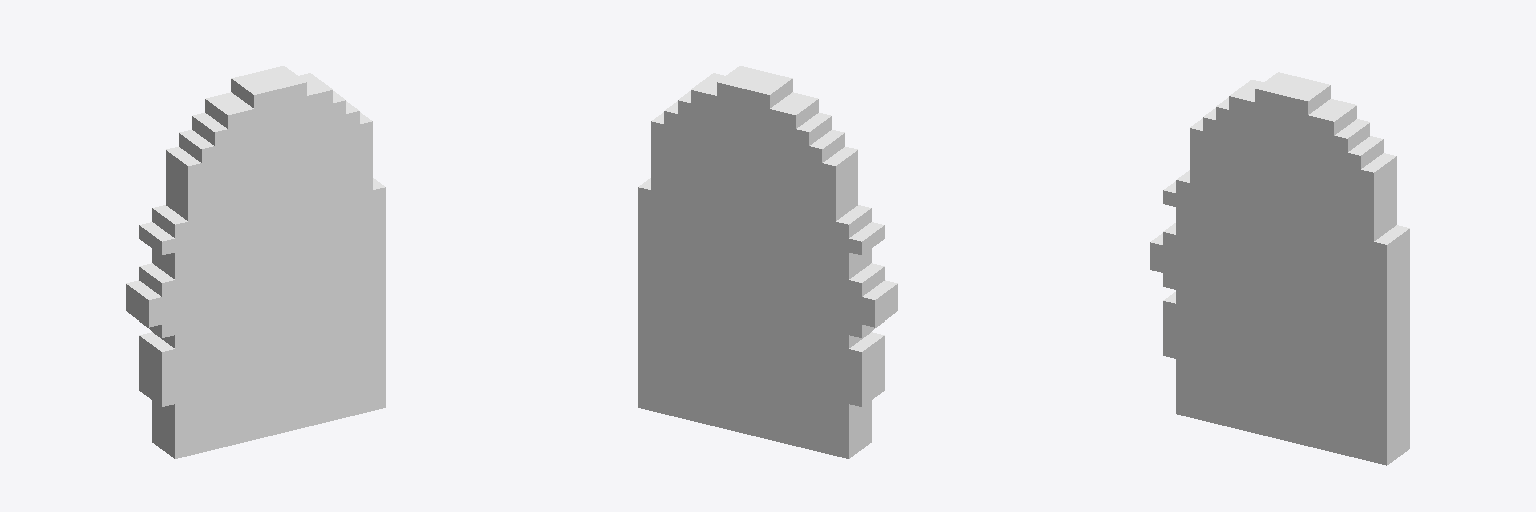
Rendered from door_dungeon_1.obj.
3 views of the same model, side by side, from view 1: azimuth 30°, elevation 25°; view 2: azimuth 150°, elevation 25°; view 3: azimuth 330°, elevation 25° (orthographic).
Visible parts, largest first — view 1: object 1; view 2: object 1; view 3: object 1.
Part boxes in pixels (x1,y1,x2,y2): object 1: (126, 66, 385, 458); object 1: (638, 66, 897, 458); object 1: (1150, 72, 1409, 465).
Bounding box in the file's own units: 1.8 × 2.5 × 0.3.